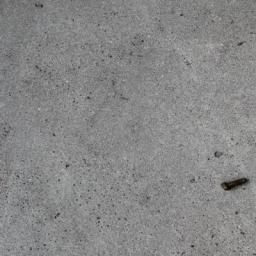FOD: (221, 173, 253, 194)
